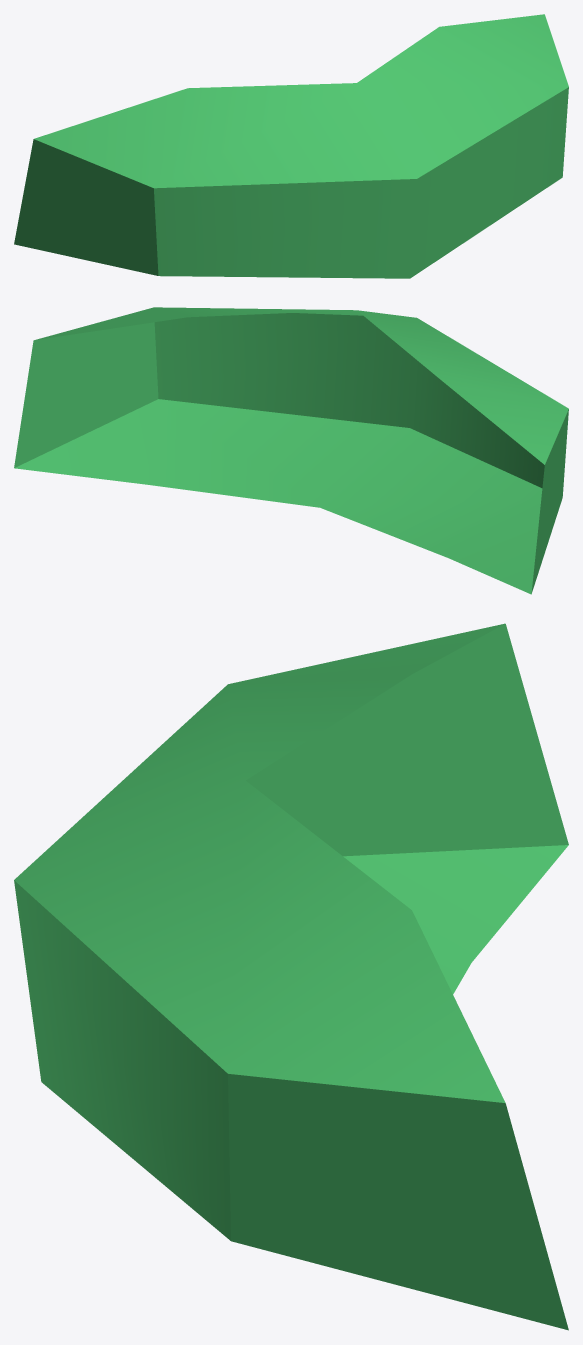
Rendered from Male_Mustache_01_v4.fbx.
3 renders of one model, top to bottom at view 1: azimuth 30°, elevation 25°; view 2: azimuth 150°, elevation 25°; view 3: azimuth 270°, elevation 25°, orthographic. The views are drawn at different scales.
Visible parts, largest first — view 1: Male_Mustache_01_v4; view 2: Male_Mustache_01_v4; view 3: Male_Mustache_01_v4.
Part boxes in pixels (bbox=[...]): Male_Mustache_01_v4: bbox=[14, 14, 568, 278]; Male_Mustache_01_v4: bbox=[14, 307, 568, 594]; Male_Mustache_01_v4: bbox=[14, 623, 568, 1330].
Bounding box in the file's own units: 23.74 × 7.49 × 11.47.
